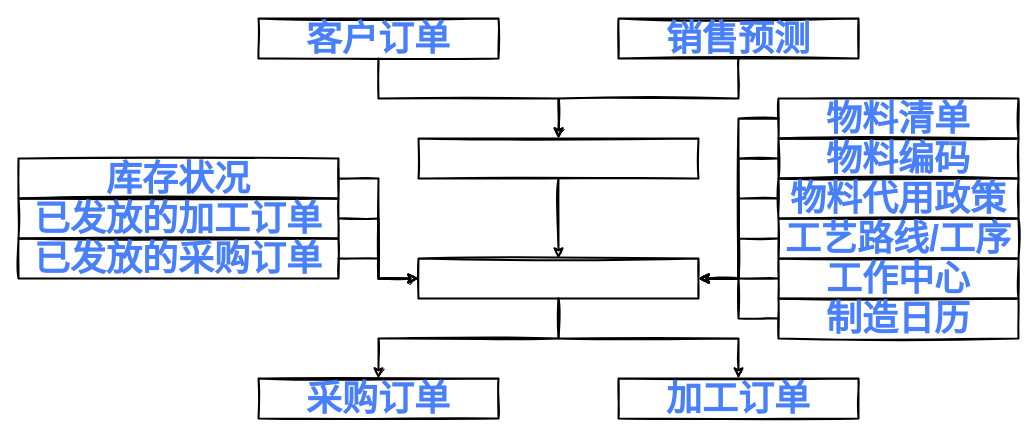
This 1036x437 diagram has some shape labels left out. The box of each missing label's shape, as (x1, y1, x2, y2) in pixels:
主生产计划: (417, 137, 699, 179)
物料需求计划: (417, 257, 699, 299)
